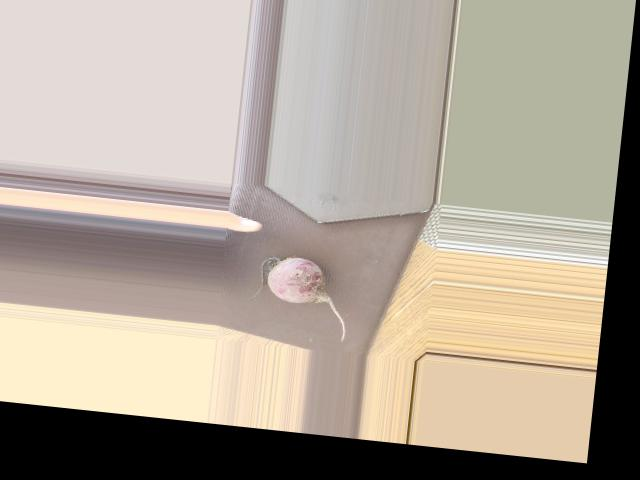beet: (247, 253, 353, 341)
